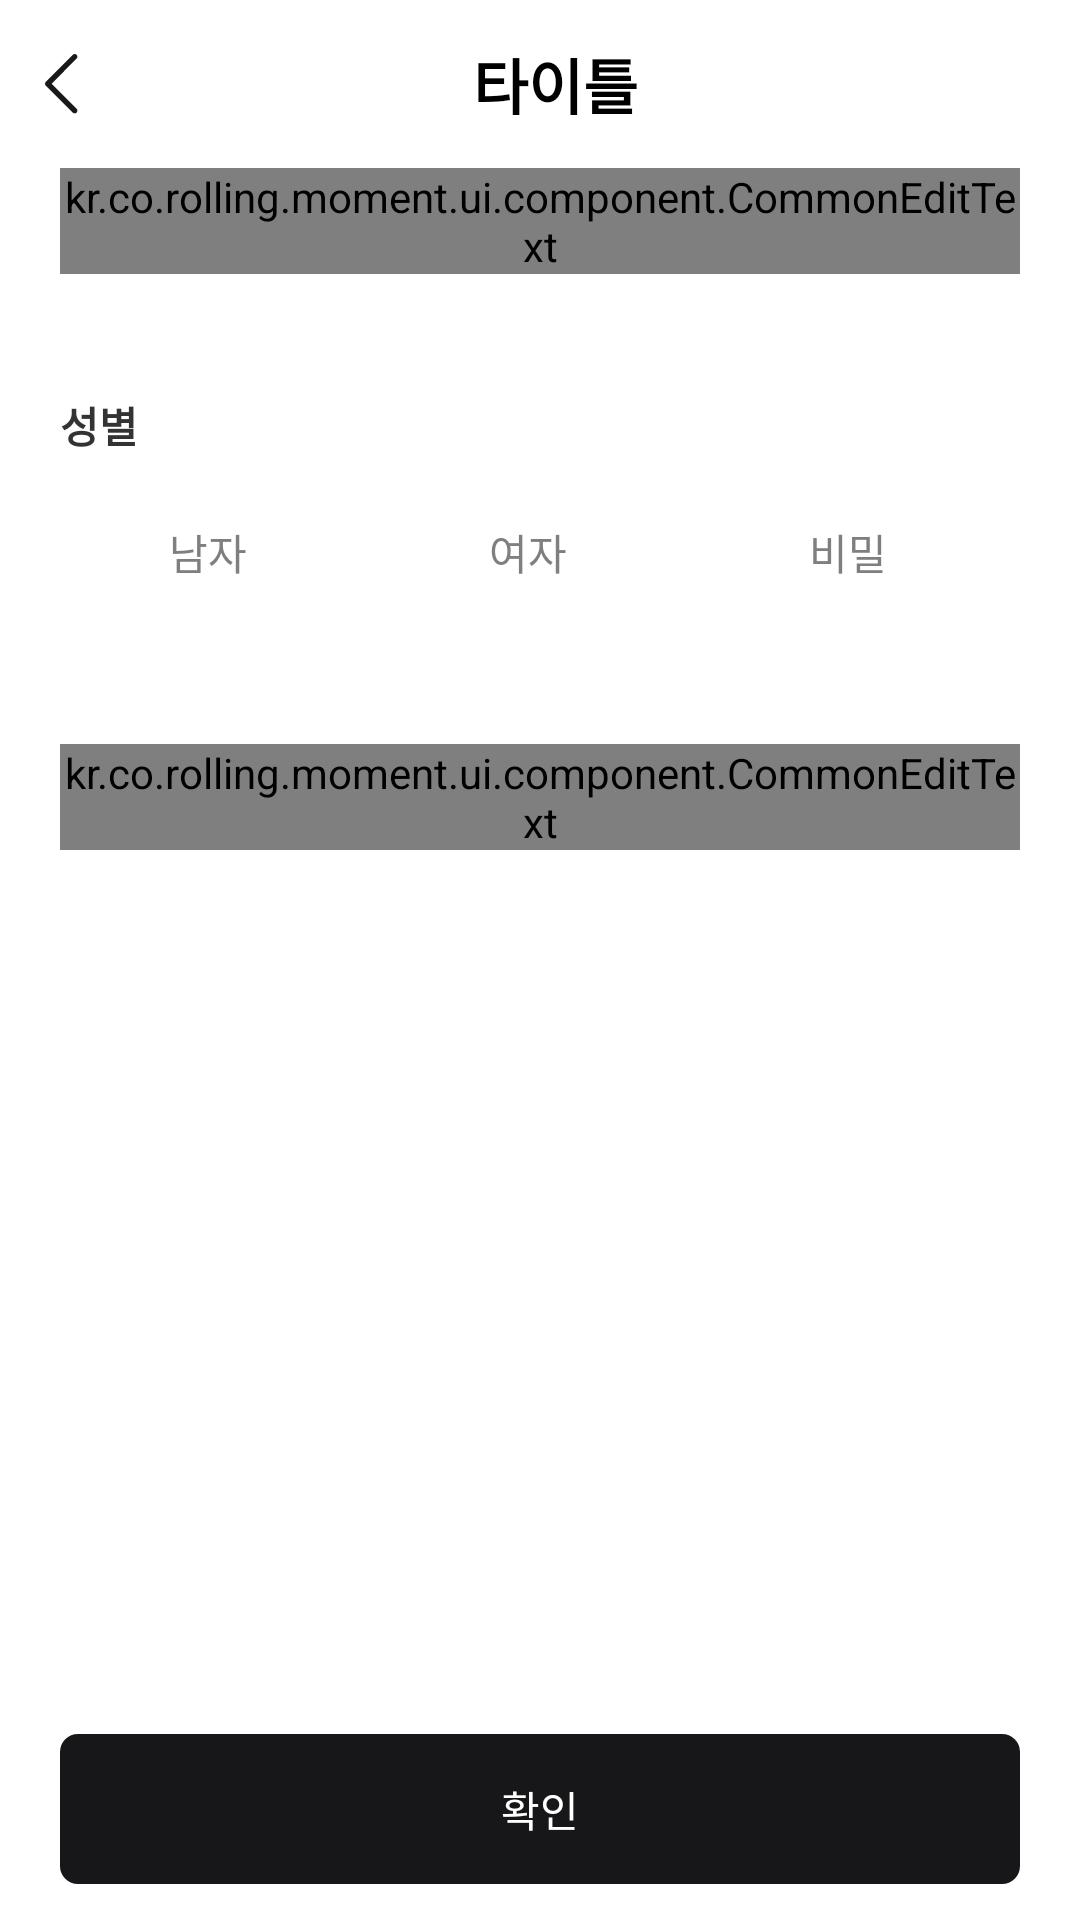

Icons on this 1080×1920 Android screen, each with its box as {"x1": x1, "y1": y1, "x2": x2, "y2": y2}:
chevron left: {"x1": 45, "y1": 54, "x2": 78, "y2": 114}
